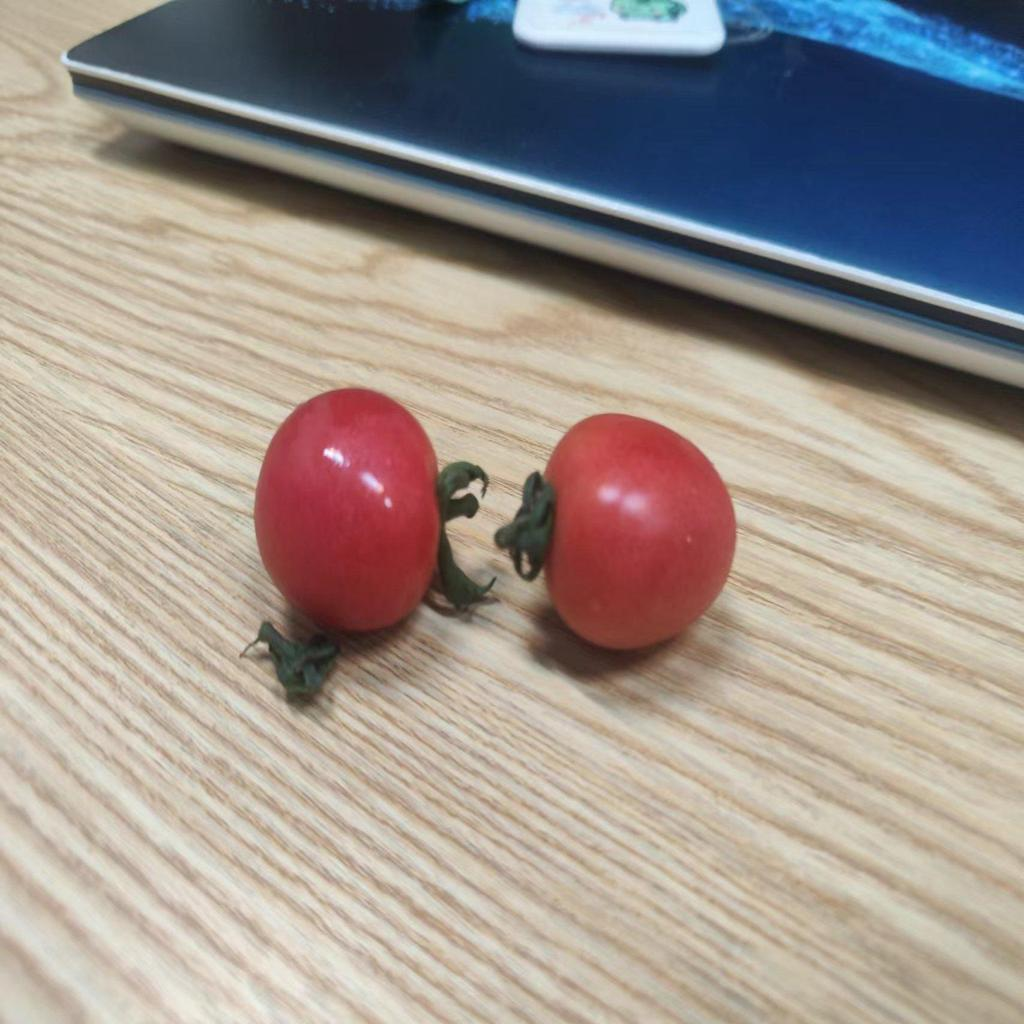tomato: (532, 409, 726, 654), (263, 393, 437, 639)
